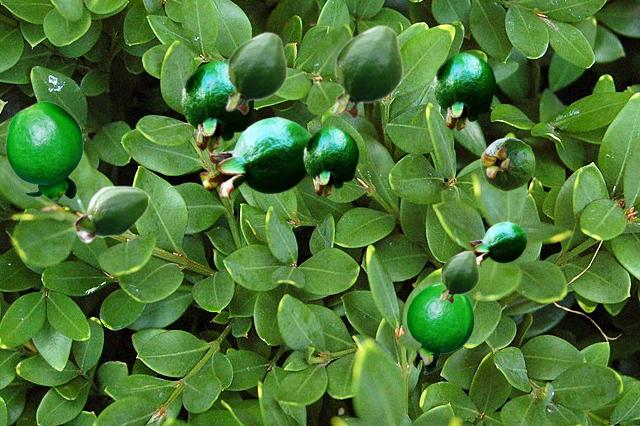guava: (199, 116, 311, 199), (5, 101, 82, 201), (332, 24, 402, 119), (181, 60, 254, 151), (406, 282, 473, 373), (225, 31, 286, 114), (433, 52, 495, 130), (74, 185, 149, 242), (303, 126, 358, 196), (480, 137, 534, 190), (469, 221, 526, 265), (439, 250, 478, 303)
